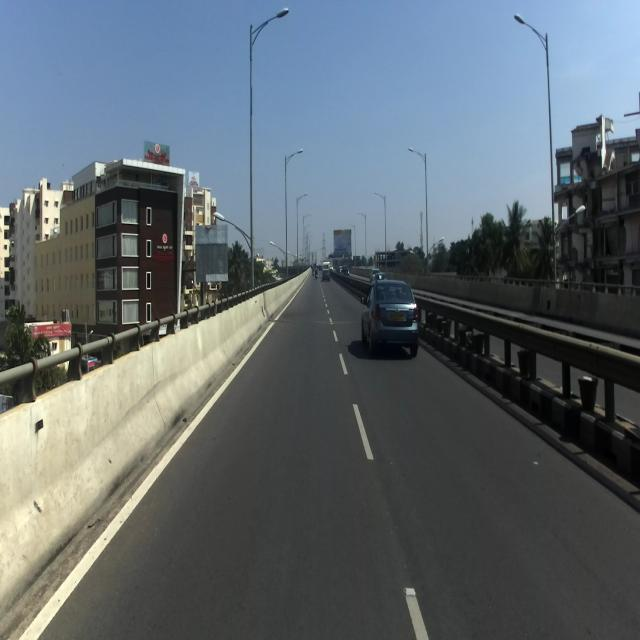car ahead at: (358, 270, 424, 366)
